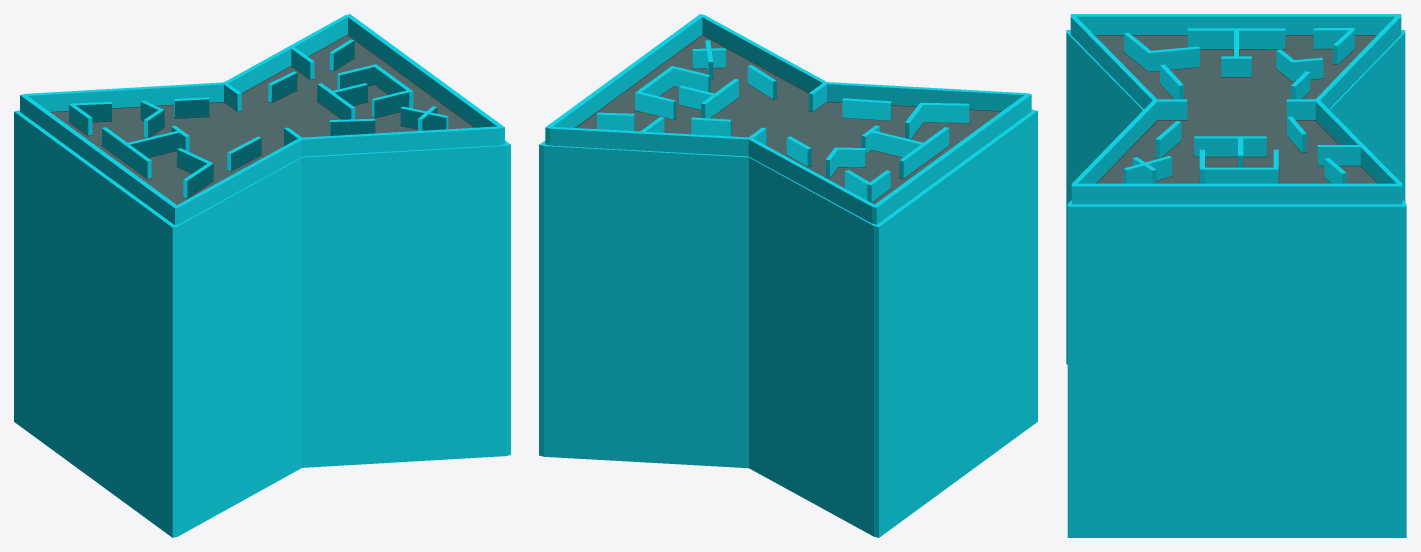
The model's file is Level_14.FBX.
3 renders of one model, left to right at view 1: azimuth 30°, elevation 25°; view 2: azimuth 150°, elevation 25°; view 3: azimuth 270°, elevation 25°, orthographic. The views are drawn at different scales.
Visible parts, largest first — view 1: level_14; view 2: level_14; view 3: level_14.
Boxes of the visible parts, x1,y1,x2,y2 form: level_14: [14, 14, 510, 537]; level_14: [539, 14, 1037, 537]; level_14: [1066, 14, 1406, 537].
Bounding box in the file's own units: 270 × 250 × 220.
